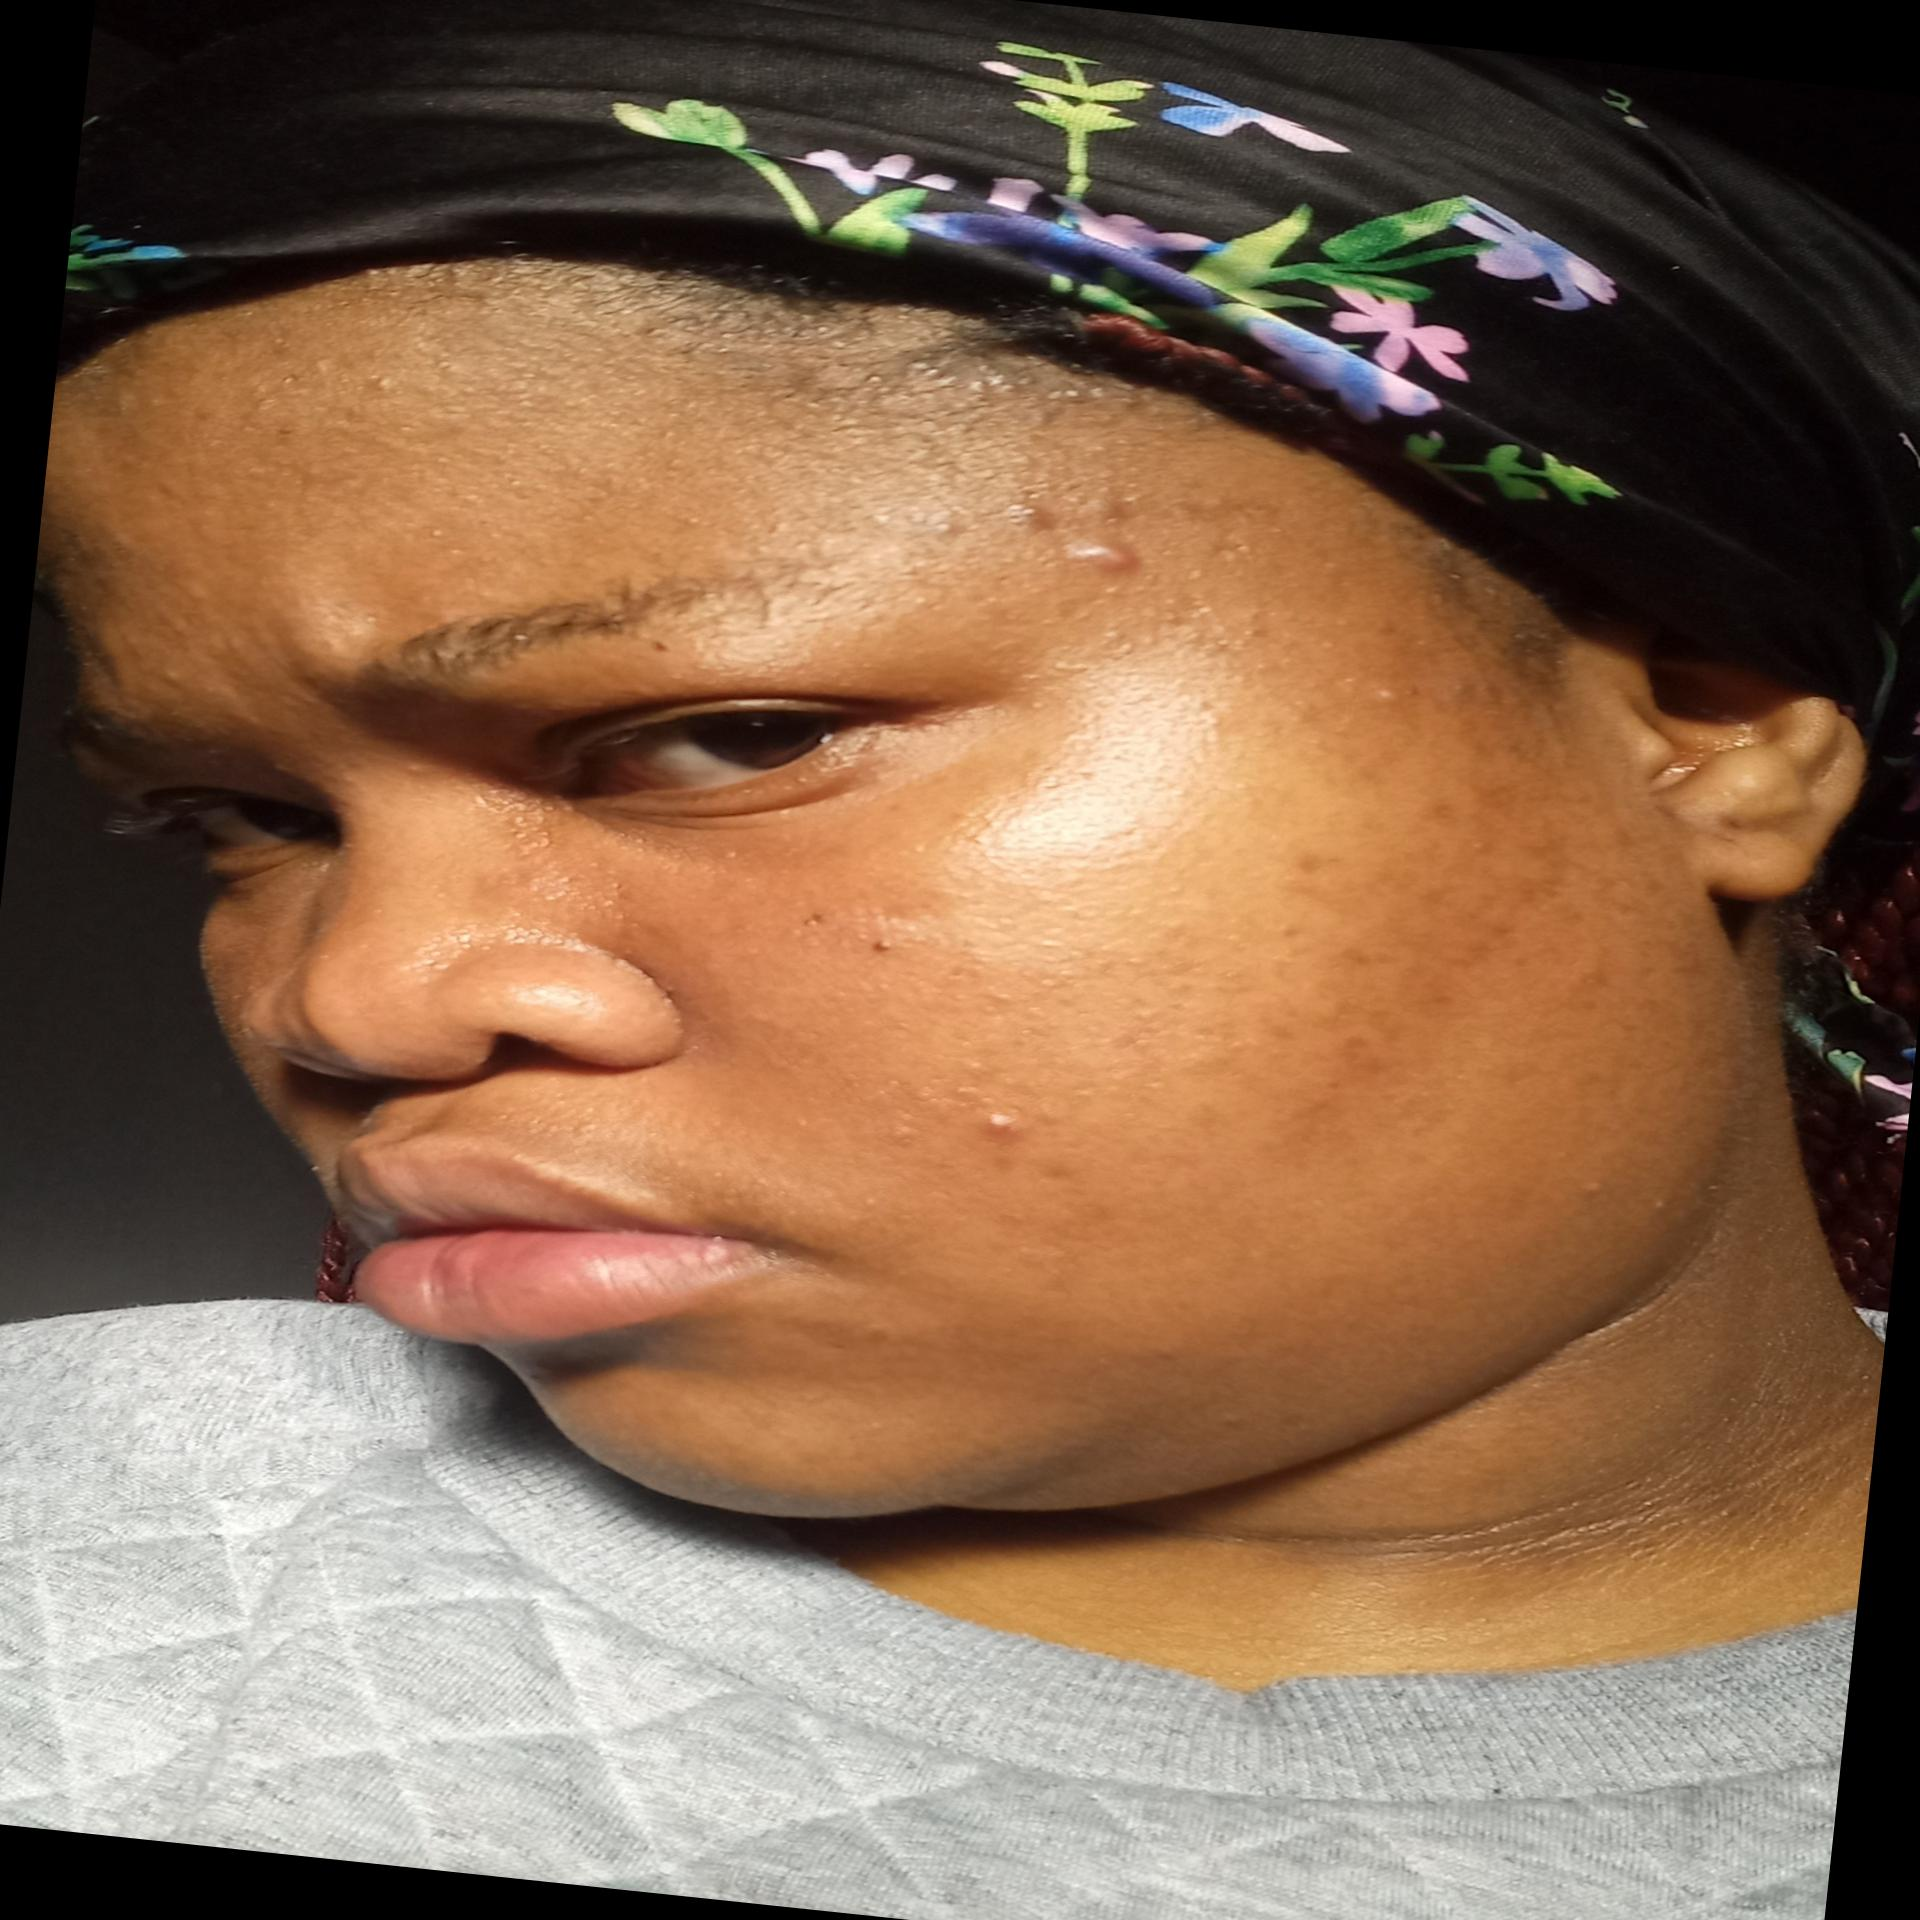Acne: (979, 475, 1169, 591), (965, 1102, 1025, 1150)
Blackhead: (786, 904, 918, 969)
